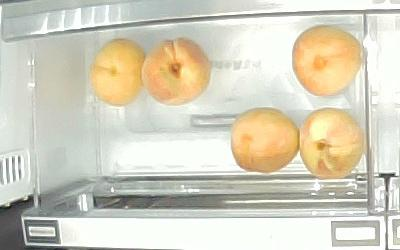peach: (291, 24, 362, 97), (299, 107, 365, 182), (141, 37, 211, 107), (230, 107, 300, 174), (89, 38, 146, 107)
